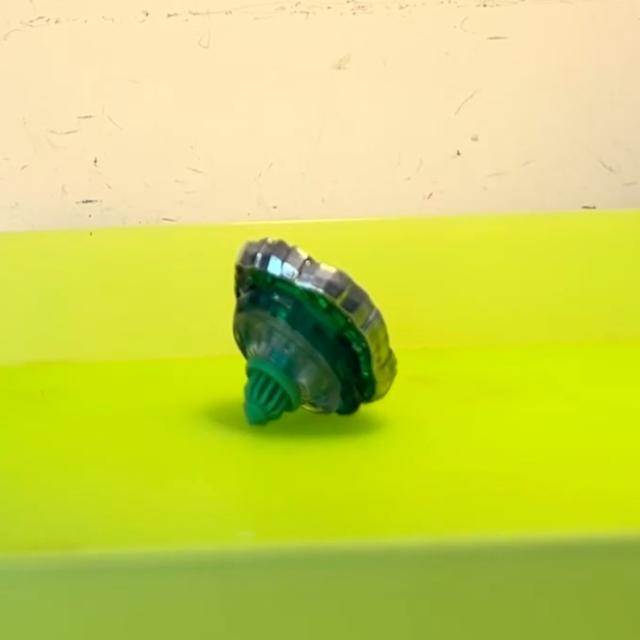Beyblade: (230, 239, 397, 425)
